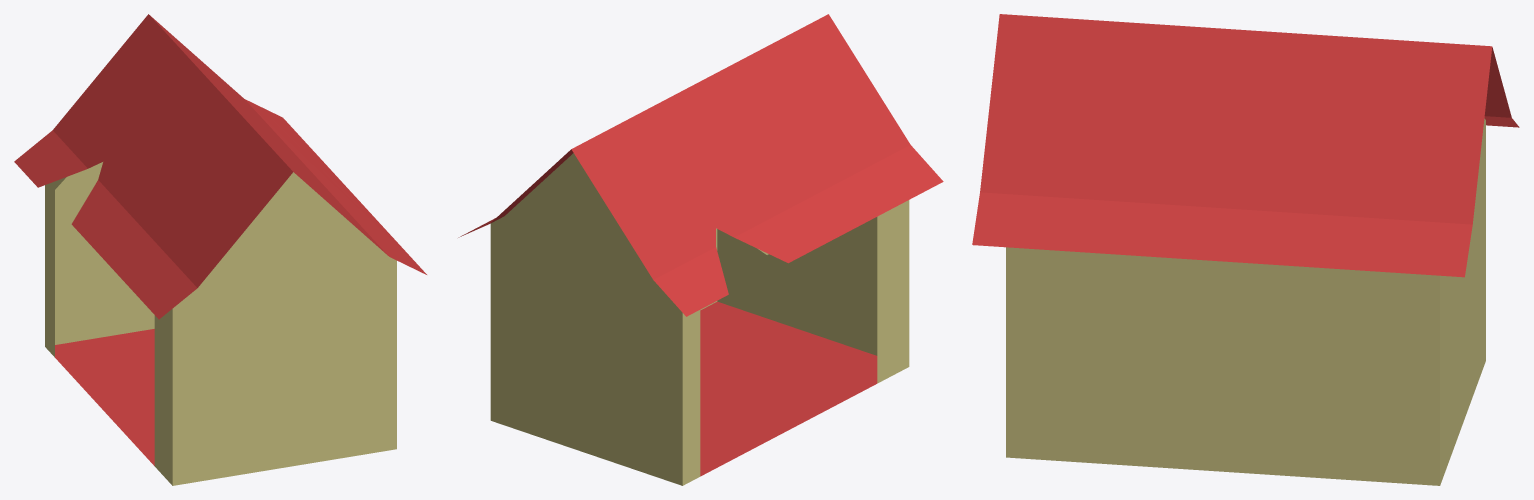
The picture shows the model from 3 angles, left to right: view 1: azimuth 30°, elevation 25°; view 2: azimuth 150°, elevation 25°; view 3: azimuth 270°, elevation 25°; orthographic projection. The views are drawn at different scales.
Size of the model in its own units: 14.51 by 18.45 by 14.09.
